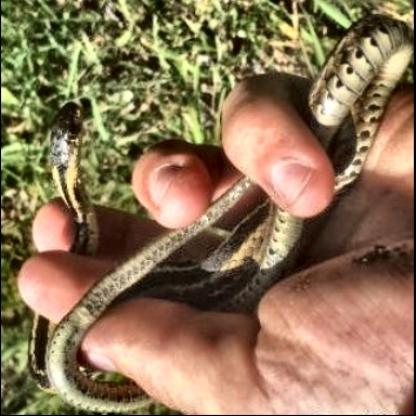Snake: (23, 15, 415, 406), (26, 94, 129, 264)
